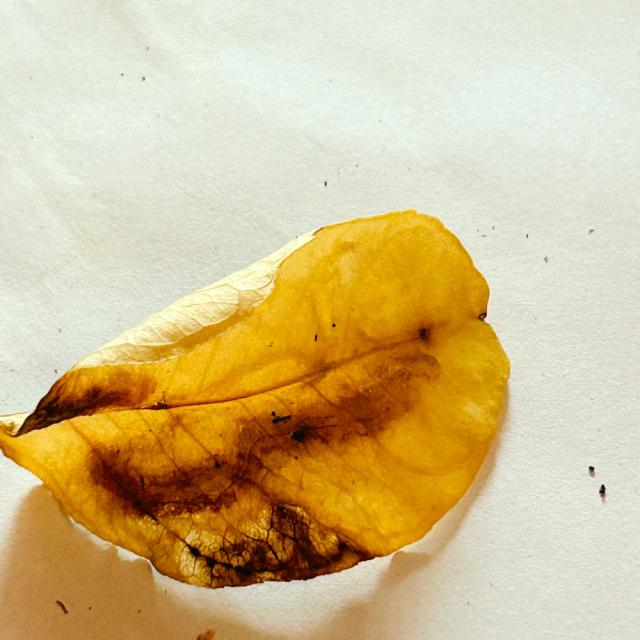DryLeaf_Lemon: (0, 211, 509, 587)
